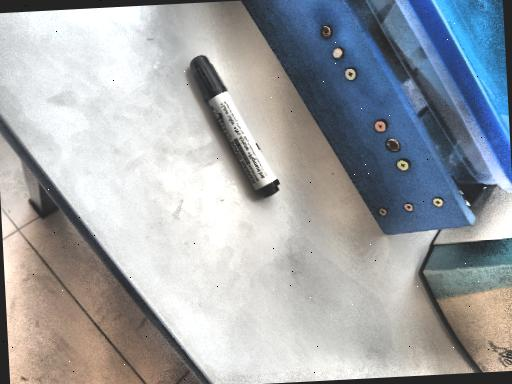marcador negro: (190, 56, 278, 197)
